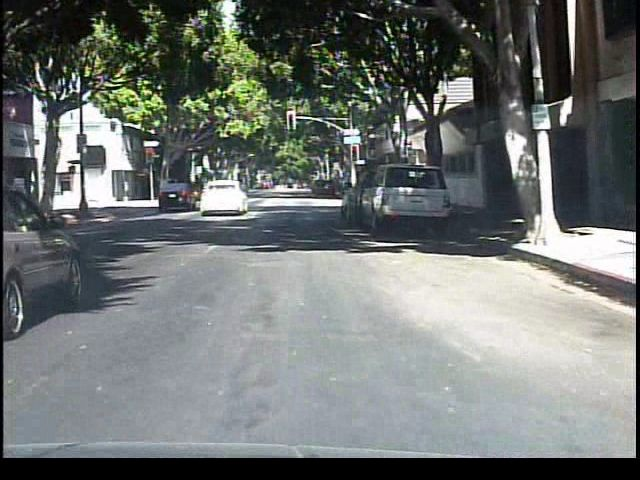person: (196, 170, 220, 214)
